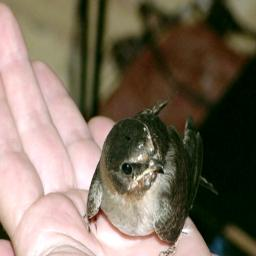Swallow: (83, 97, 222, 256)
